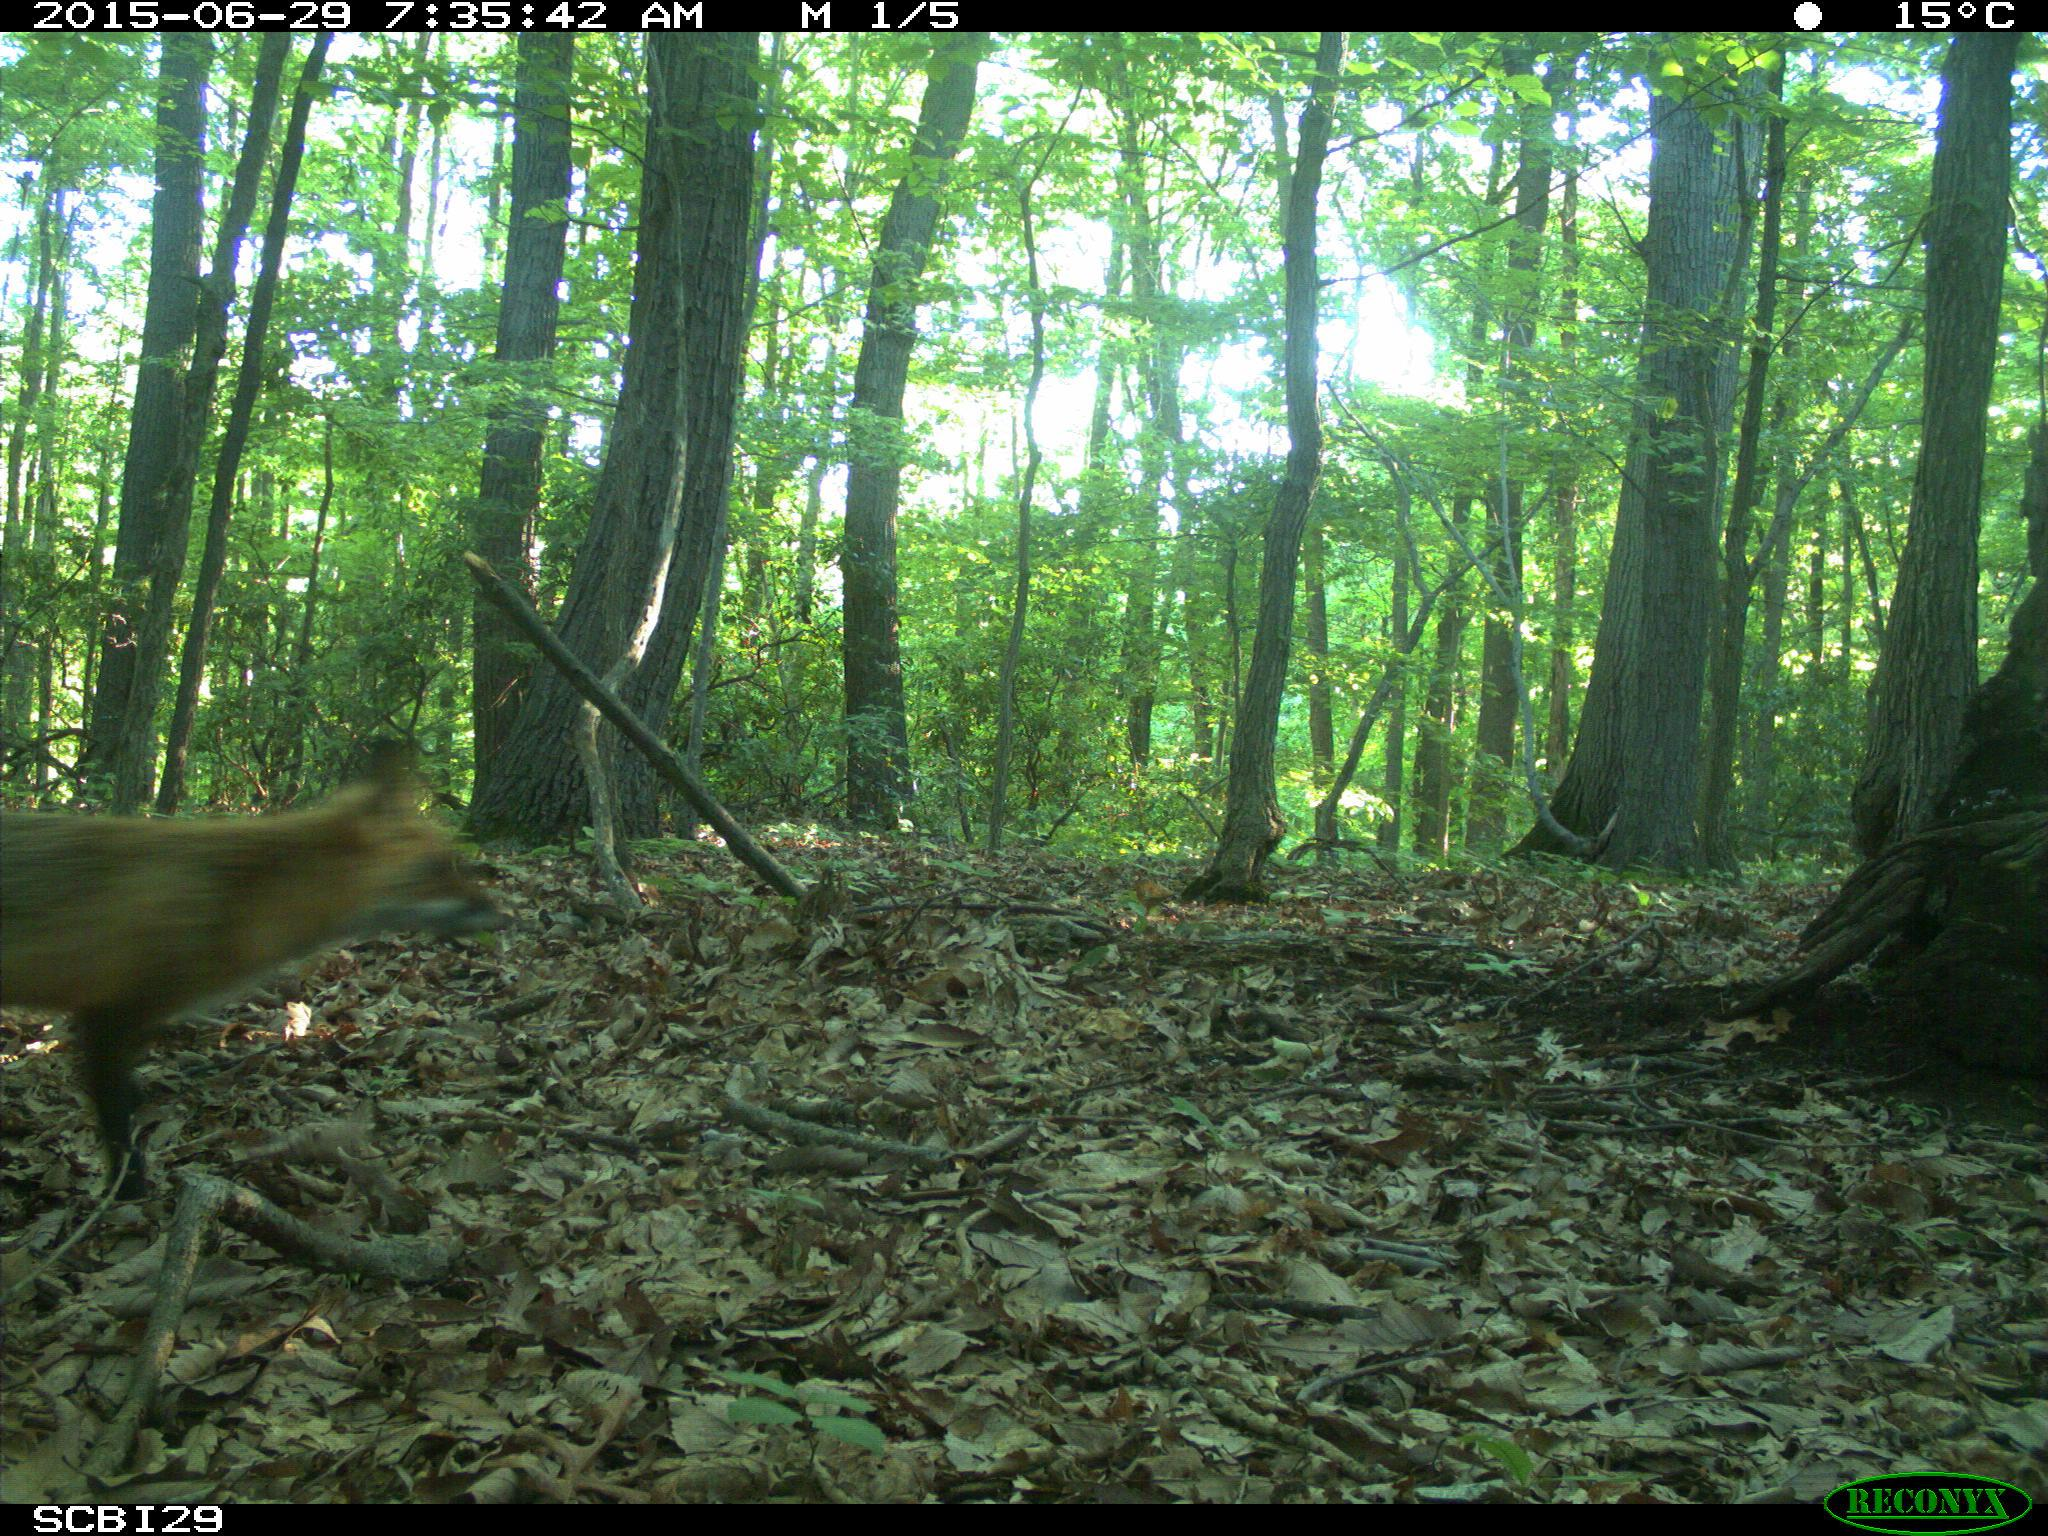Animal: (2, 733, 513, 1176)
